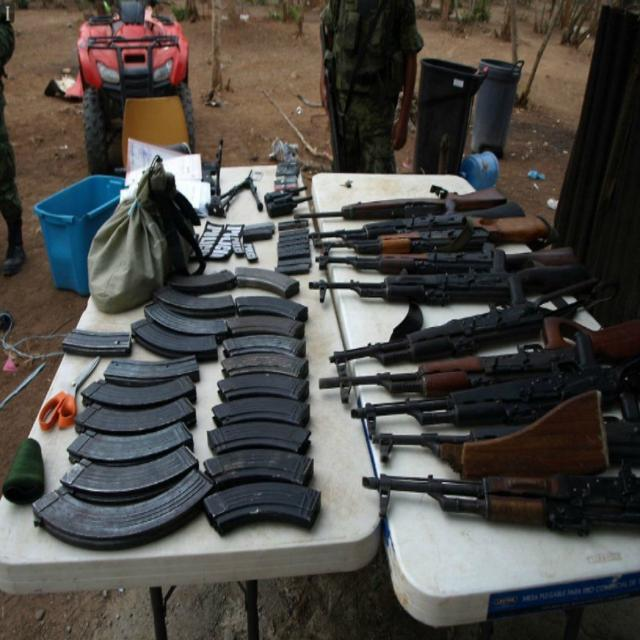firearm: (318, 315, 639, 393), (351, 372, 640, 433), (362, 473, 640, 534), (373, 425, 640, 470), (309, 267, 584, 302), (311, 209, 551, 244), (294, 188, 509, 217)
